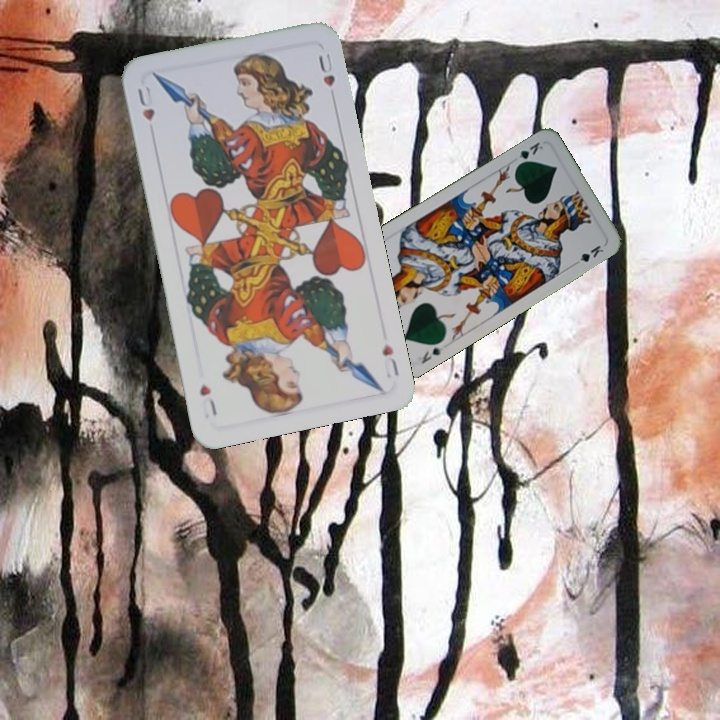GK: (511, 138, 546, 169), (413, 343, 446, 367)
HU: (133, 82, 157, 124), (378, 339, 402, 379)
